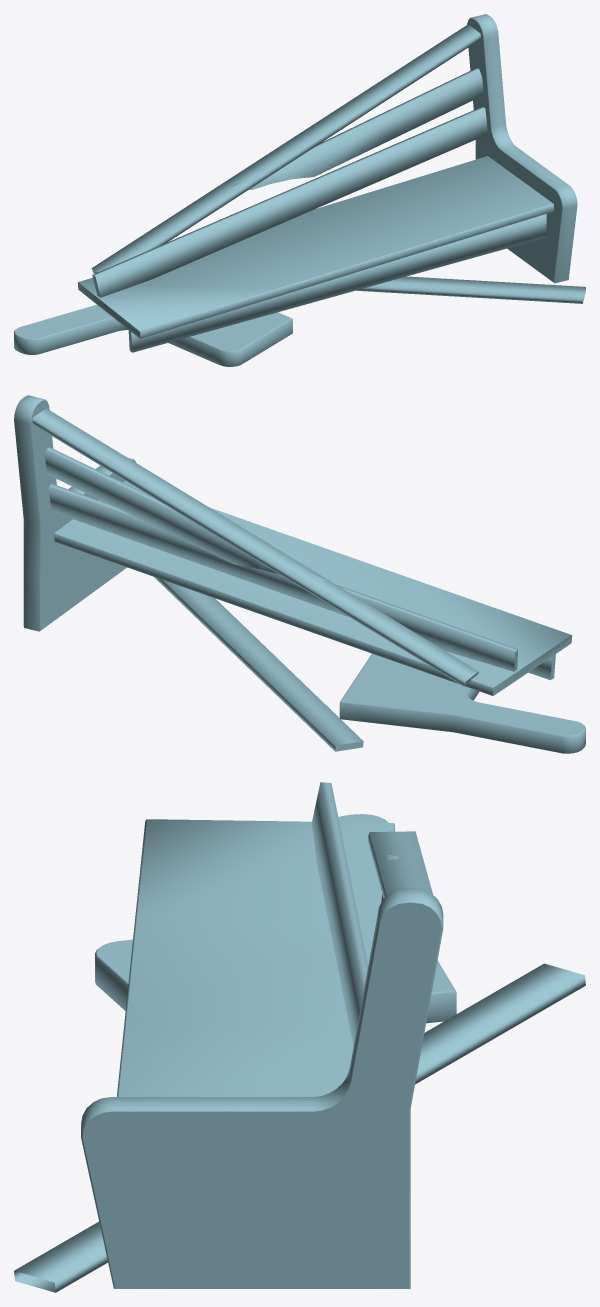
The model's file is lo_Prop_ChurchBench_A_DM.fbx.
3 views of the same model, one above another, from view 1: azimuth 30°, elevation 25°; view 2: azimuth 150°, elevation 25°; view 3: azimuth 270°, elevation 25° (orthographic). The views are drawn at different scales.
Visible parts, largest first — view 1: lo_Prop_ChurchBench_A_DM_LOD0; view 2: lo_Prop_ChurchBench_A_DM_LOD0; view 3: lo_Prop_ChurchBench_A_DM_LOD0.
Part boxes in pixels (left/top/right/bottom): lo_Prop_ChurchBench_A_DM_LOD0: left=14, top=14, right=585, bottom=366; lo_Prop_ChurchBench_A_DM_LOD0: left=14, top=395, right=585, bottom=753; lo_Prop_ChurchBench_A_DM_LOD0: left=14, top=782, right=585, bottom=1292.
Size of what is drawn, in the model's own units: 3.22 by 1.31 by 1.74.
